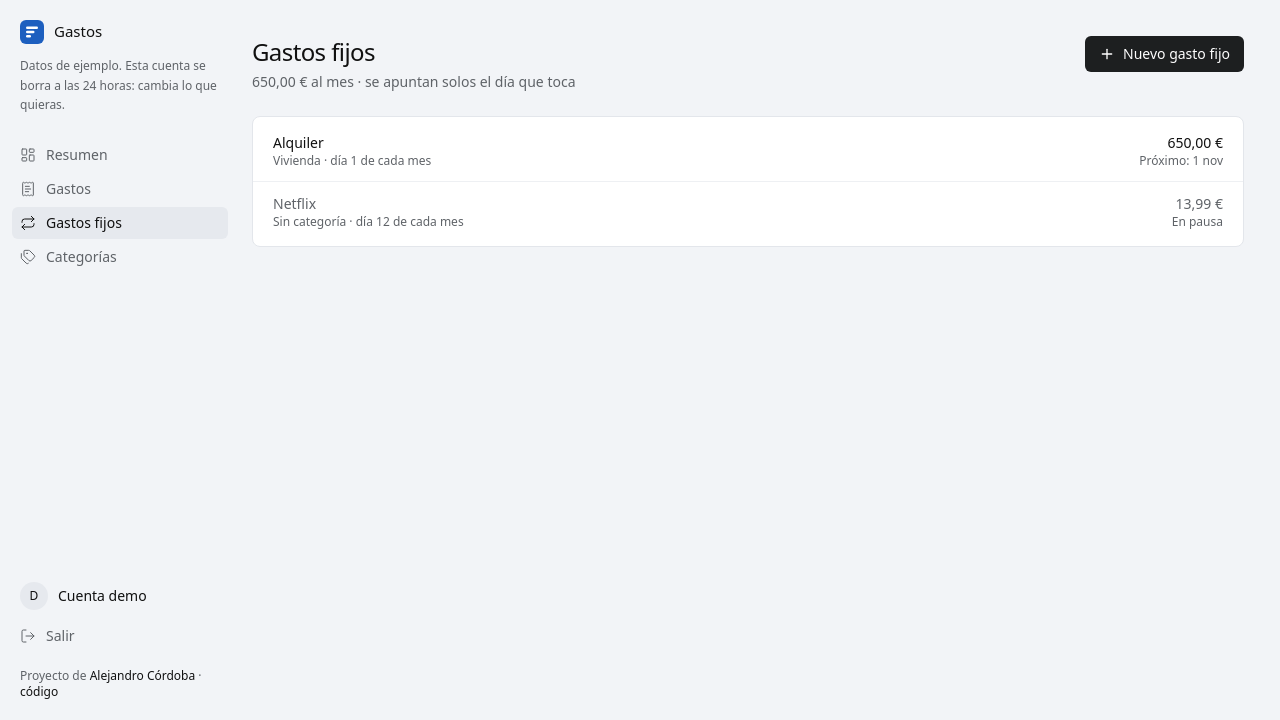
Test: recurring expenses page › creates one
Click the button "Nuevo gasto fijo".
click(1164, 54)  # box [1085, 36, 1244, 72]
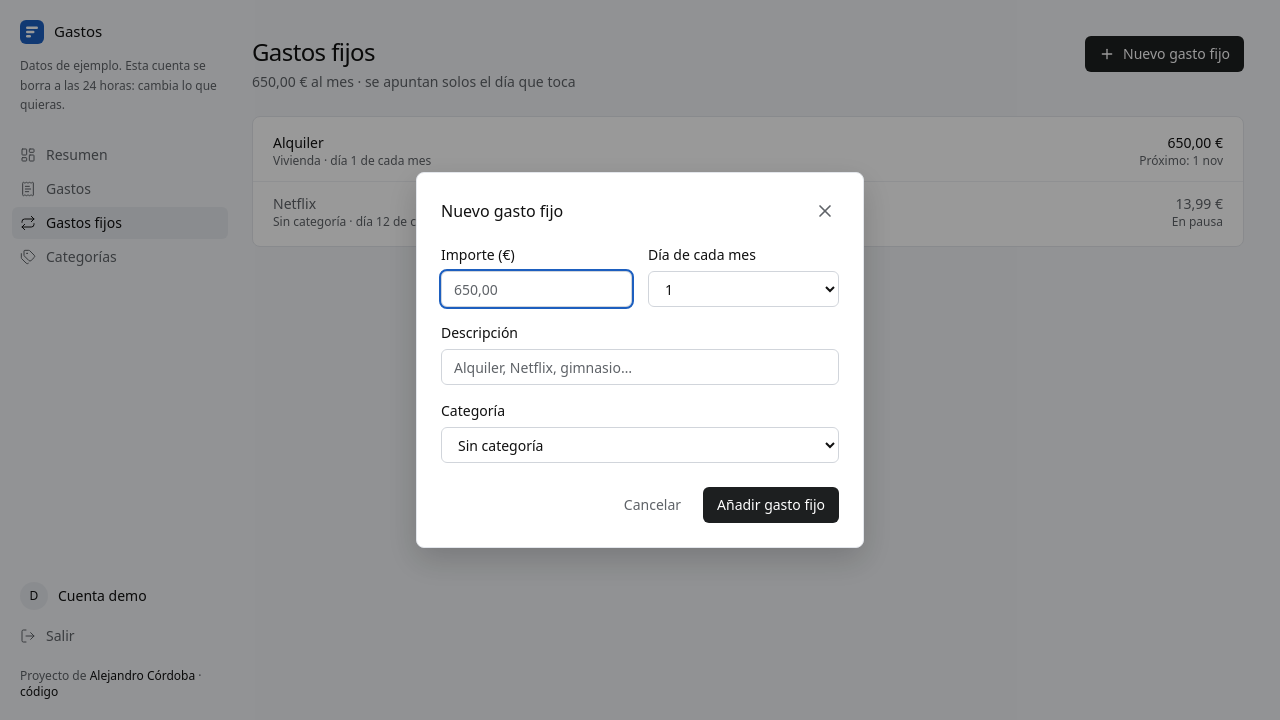
Type "34,9" into the field labelled "Importe (€)".
click(536, 289); type("34,9")  # box [441, 271, 632, 307]
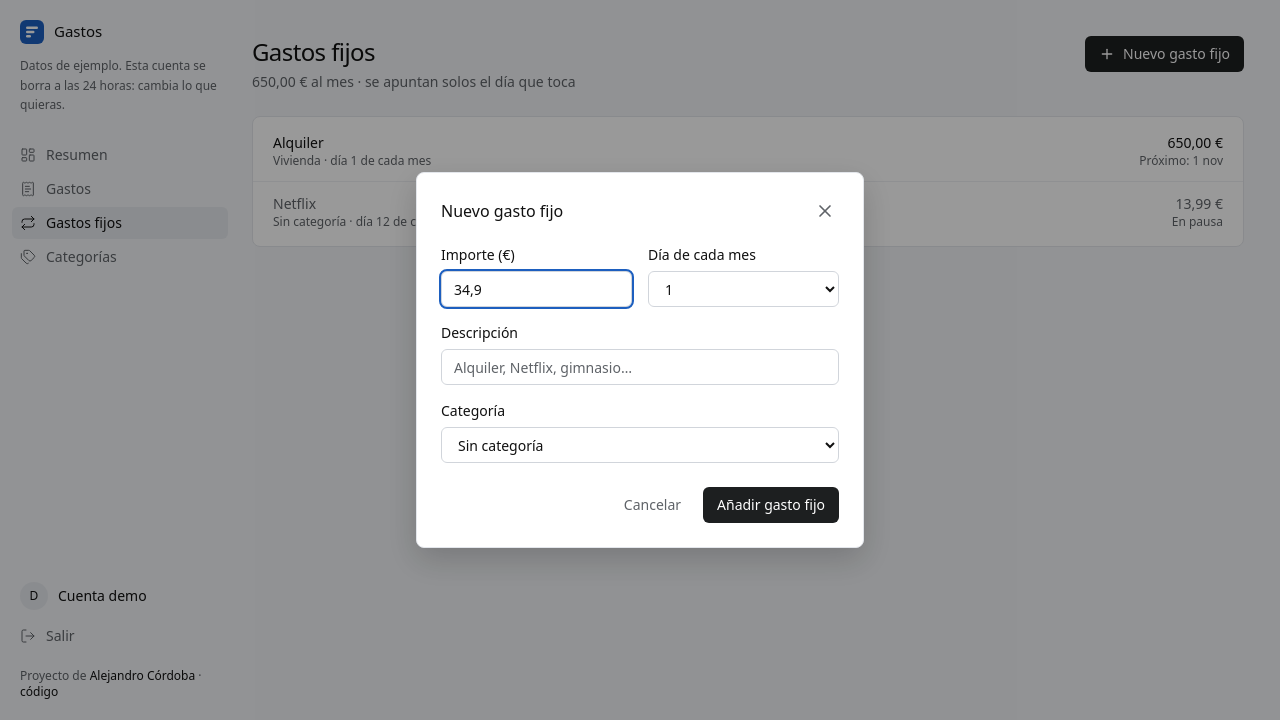
Select "2" in the dropdown labelled "Día de cada mes" at (744, 289), box [648, 271, 839, 307]
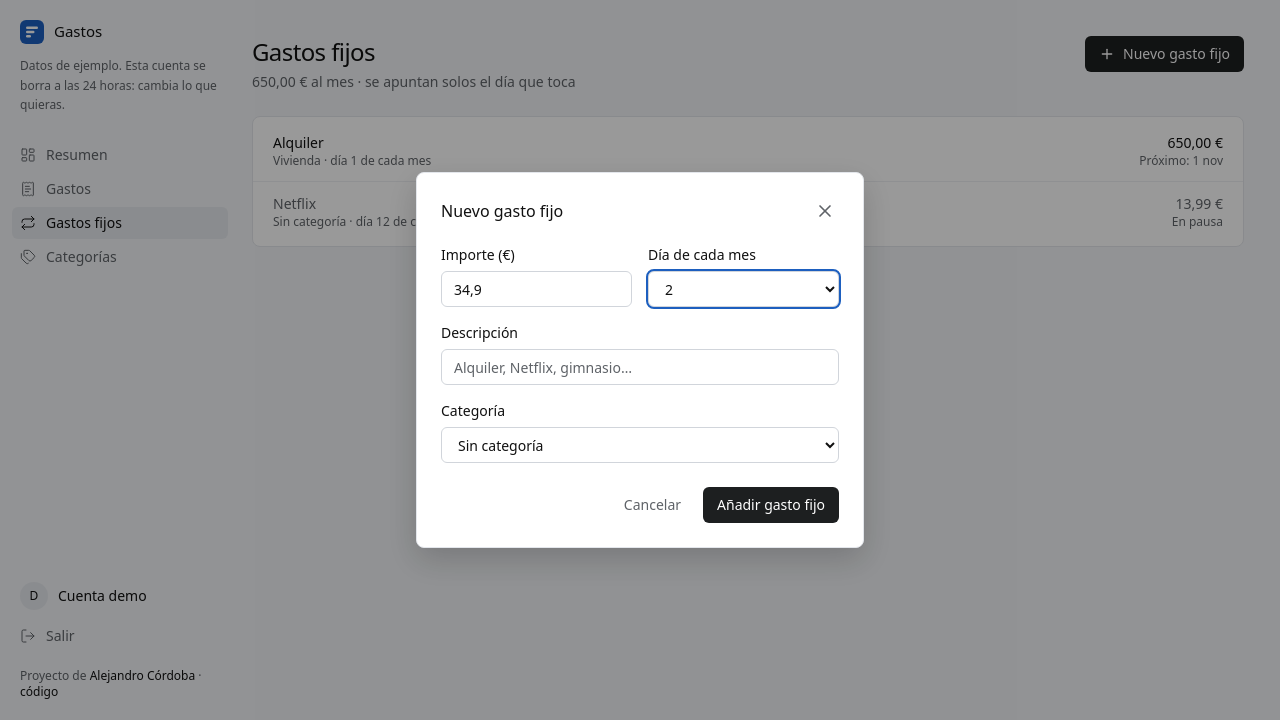
Type "Gimnasio" into the field labelled "Descripción".
click(640, 367); type("Gimnasio")  # box [441, 349, 839, 385]
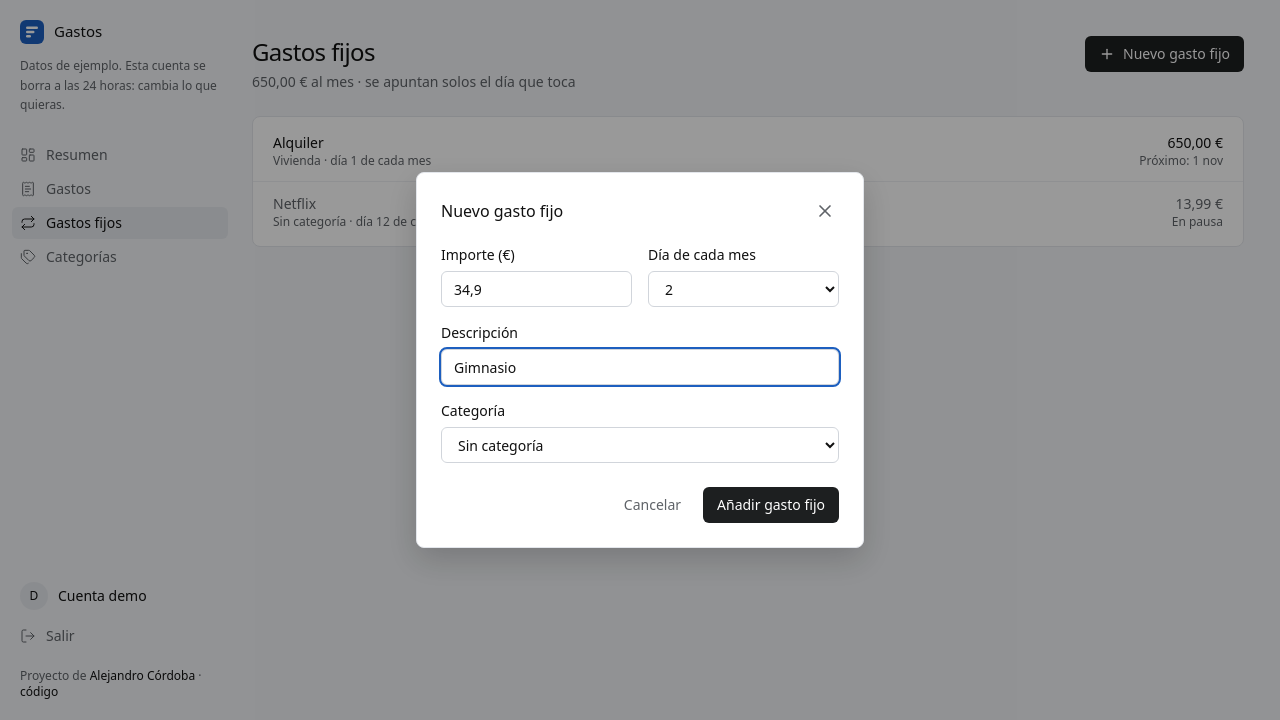
Click the button "Añadir gasto fijo".
click(771, 505)  # box [703, 487, 839, 523]
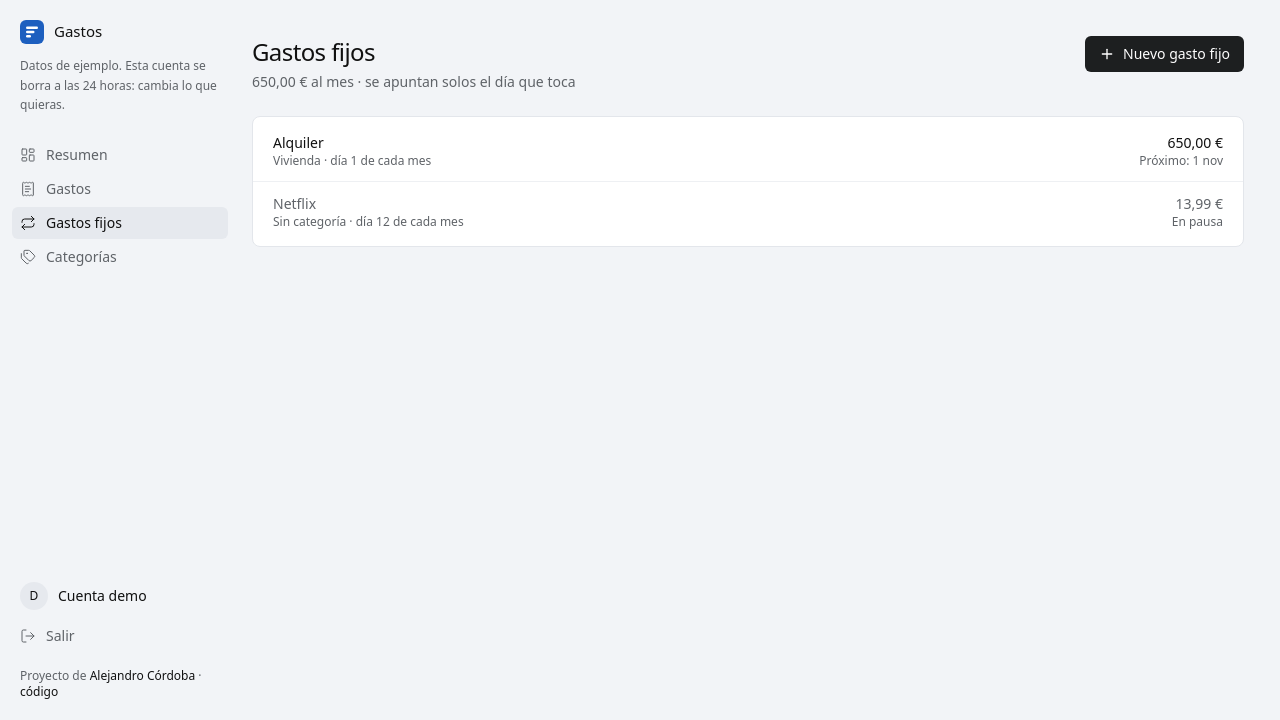
Expected: the dialog is gone
